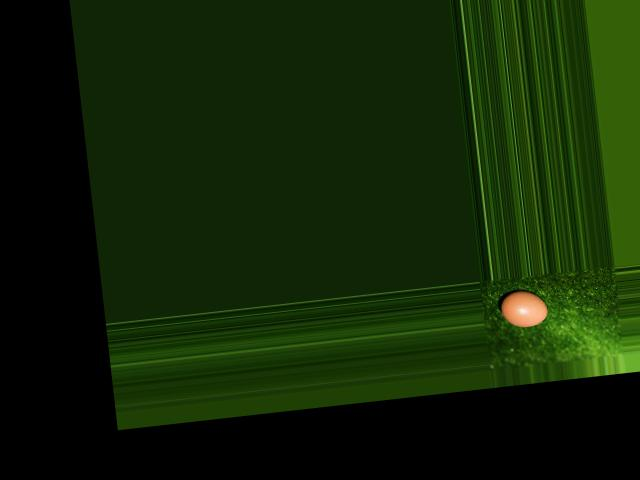egg: (499, 287, 549, 329)
